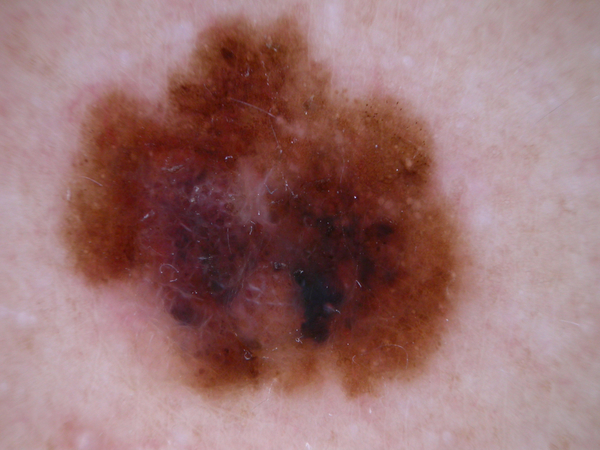Detected Lesion: (61, 13, 467, 412)
